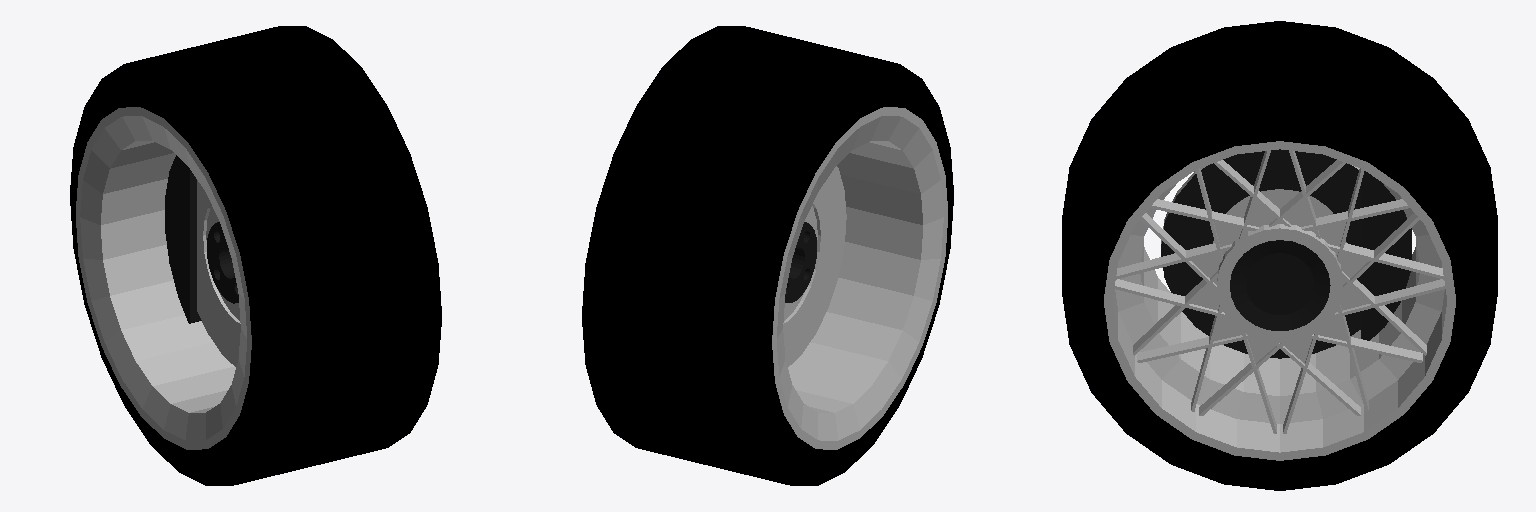
File: wheel2.obj
3 views of the same model, side by side, from view 1: azimuth 30°, elevation 25°; view 2: azimuth 150°, elevation 25°; view 3: azimuth 270°, elevation 25° (orthographic).
Parts seen in each view (by area): view 1: Mesh4 Component_12_1 Component_109_1 Component_111_1 ske4DD9_1 M, Mesh3 Component_10_1 Component_109_1 Component_111_1 ske4DD9_1 M, Mesh2 Component_17_1 Component_18_1 Disco_de_freno1 ske4DD9_1 Mo, Mesh1 Component_16_1 Component_18_1 Disco_de_freno1 ske4DD9_1 Mo; view 2: Mesh4 Component_12_1 Component_109_1 Component_111_1 ske4DD9_1 M, Mesh3 Component_10_1 Component_109_1 Component_111_1 ske4DD9_1 M, Mesh2 Component_17_1 Component_18_1 Disco_de_freno1 ske4DD9_1 Mo; view 3: Mesh4 Component_12_1 Component_109_1 Component_111_1 ske4DD9_1 M, Mesh3 Component_10_1 Component_109_1 Component_111_1 ske4DD9_1 M, Mesh5 Component_15_1 Component_111_1 ske4DD9_1 Model, Mesh6 Component_15_1 Component_111_1 ske4DD9_1 Model, Mesh2 Component_17_1 Component_18_1 Disco_de_freno1 ske4DD9_1 Mo, Mesh1 Component_16_1 Component_18_1 Disco_de_freno1 ske4DD9_1 Mo.
Boxes of the visible parts, x1,y1,x2,y2 form: Mesh4 Component_12_1 Component_109_1 Component_111_1 ske4DD9_1 M: [70, 26, 441, 485]; Mesh3 Component_10_1 Component_109_1 Component_111_1 ske4DD9_1 M: [76, 107, 251, 449]; Mesh2 Component_17_1 Component_18_1 Disco_de_freno1 ske4DD9_1 Mo: [197, 180, 240, 366]; Mesh1 Component_16_1 Component_18_1 Disco_de_freno1 ske4DD9_1 Mo: [165, 155, 201, 323]; Mesh4 Component_12_1 Component_109_1 Component_111_1 ske4DD9_1 M: [582, 26, 953, 485]; Mesh3 Component_10_1 Component_109_1 Component_111_1 ske4DD9_1 M: [772, 107, 947, 449]; Mesh2 Component_17_1 Component_18_1 Disco_de_freno1 ske4DD9_1 Mo: [783, 166, 846, 366]; Mesh4 Component_12_1 Component_109_1 Component_111_1 ske4DD9_1 M: [1062, 21, 1497, 490]; Mesh3 Component_10_1 Component_109_1 Component_111_1 ske4DD9_1 M: [1104, 141, 1455, 460]; Mesh5 Component_15_1 Component_111_1 ske4DD9_1 Model: [1114, 150, 1445, 433]; Mesh6 Component_15_1 Component_111_1 ske4DD9_1 Model: [1217, 224, 1342, 342]; Mesh2 Component_17_1 Component_18_1 Disco_de_freno1 ske4DD9_1 Mo: [1161, 149, 1360, 358]; Mesh1 Component_16_1 Component_18_1 Disco_de_freno1 ske4DD9_1 Mo: [1361, 171, 1411, 340].
Size of the model in its own units: 0.3412 by 0.6984 by 0.6984.